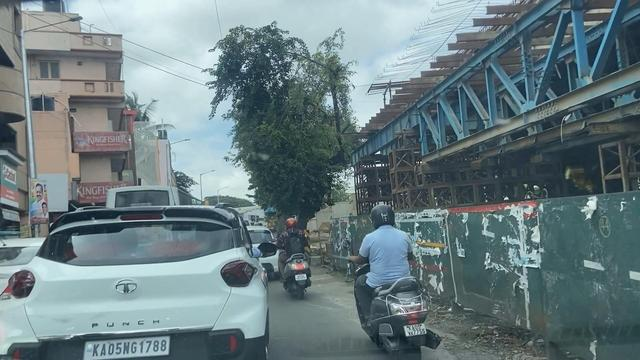LMV: (0, 206, 253, 360), (357, 207, 433, 358), (279, 218, 319, 297)
